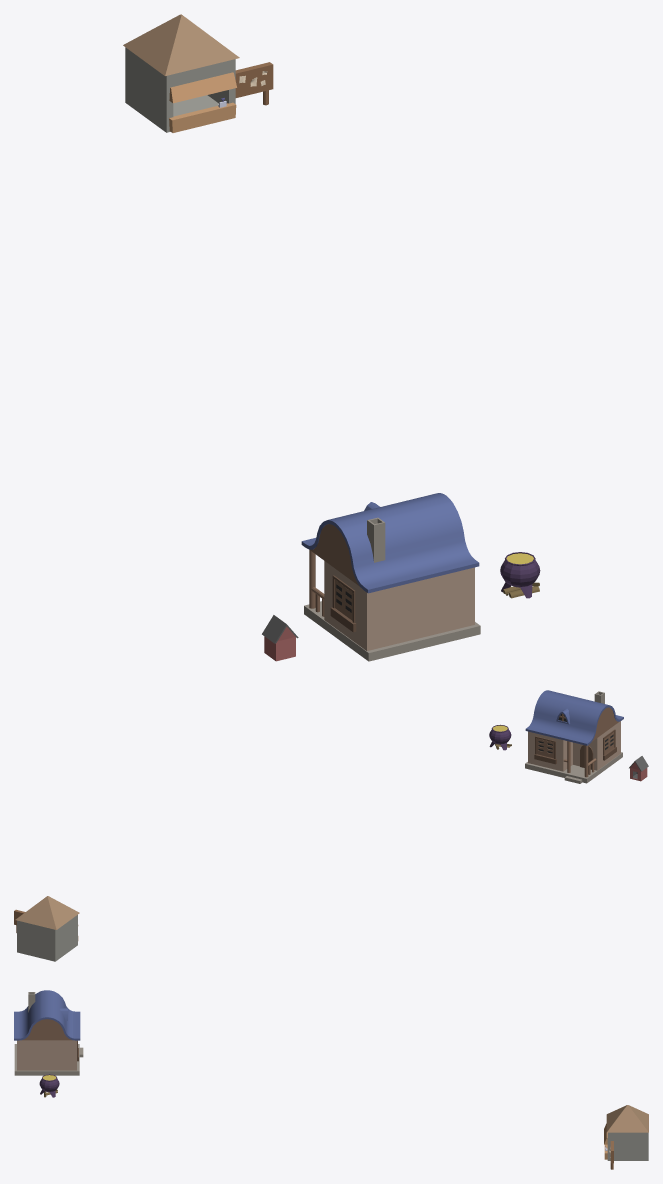
File: buildings_map.fbx
3 renders of one model, top to bottom at view 1: azimuth 30°, elevation 25°; view 2: azimuth 150°, elevation 25°; view 3: azimuth 270°, elevation 25°, orthographic. The views are drawn at different scales.
Visible parts, largest first — view 1: roof (×2), house_walls, fishstand_walls, house_base, roof_wall, countertop_cover, countertop, cauldron, notice_board; view 2: roof (×2), fishstand_walls, house_walls, house_base, roof_wall; view 3: roof (×2), house_walls, fishstand_walls, roof_wall, house_base, cauldron.
Boxes of the visible parts, x1,y1,x2,y2 form: roof (×2): [123, 14, 479, 593]; house_walls: [324, 561, 474, 650]; fishstand_walls: [125, 47, 235, 132]; house_base: [304, 601, 480, 661]; roof_wall: [310, 524, 359, 586]; countertop_cover: [169, 72, 236, 103]; countertop: [169, 102, 236, 132]; cauldron: [500, 552, 540, 598]; notice_board: [235, 62, 273, 97]; roof (×2): [15, 690, 623, 929]; fishstand_walls: [17, 915, 77, 961]; house_walls: [528, 721, 620, 771]; house_base: [525, 752, 622, 783]; roof_wall: [592, 707, 618, 741]; roof (×2): [14, 990, 648, 1132]; house_walls: [17, 1040, 76, 1070]; fishstand_walls: [607, 1132, 648, 1160]; roof_wall: [22, 1019, 71, 1040]; house_base: [14, 1044, 79, 1075]; cauldron: [39, 1074, 59, 1097].
Size of the model in its own units: 18.16 by 3.72 by 34.98.
